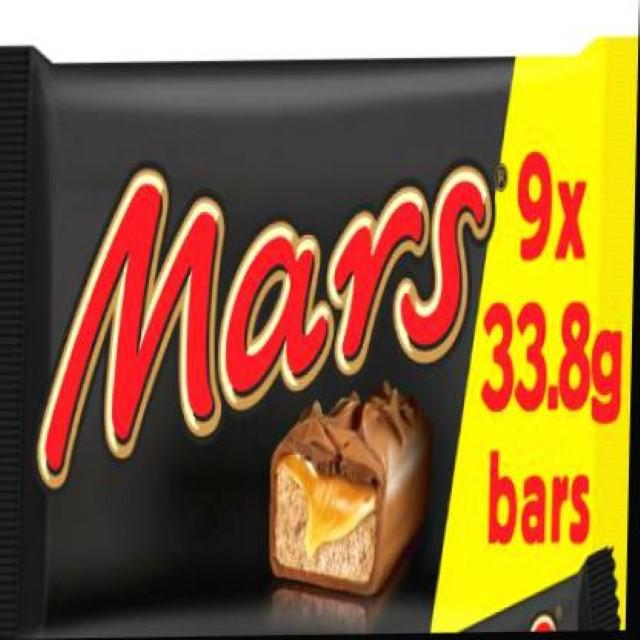mars_chocolate: (21, 73, 628, 640)
